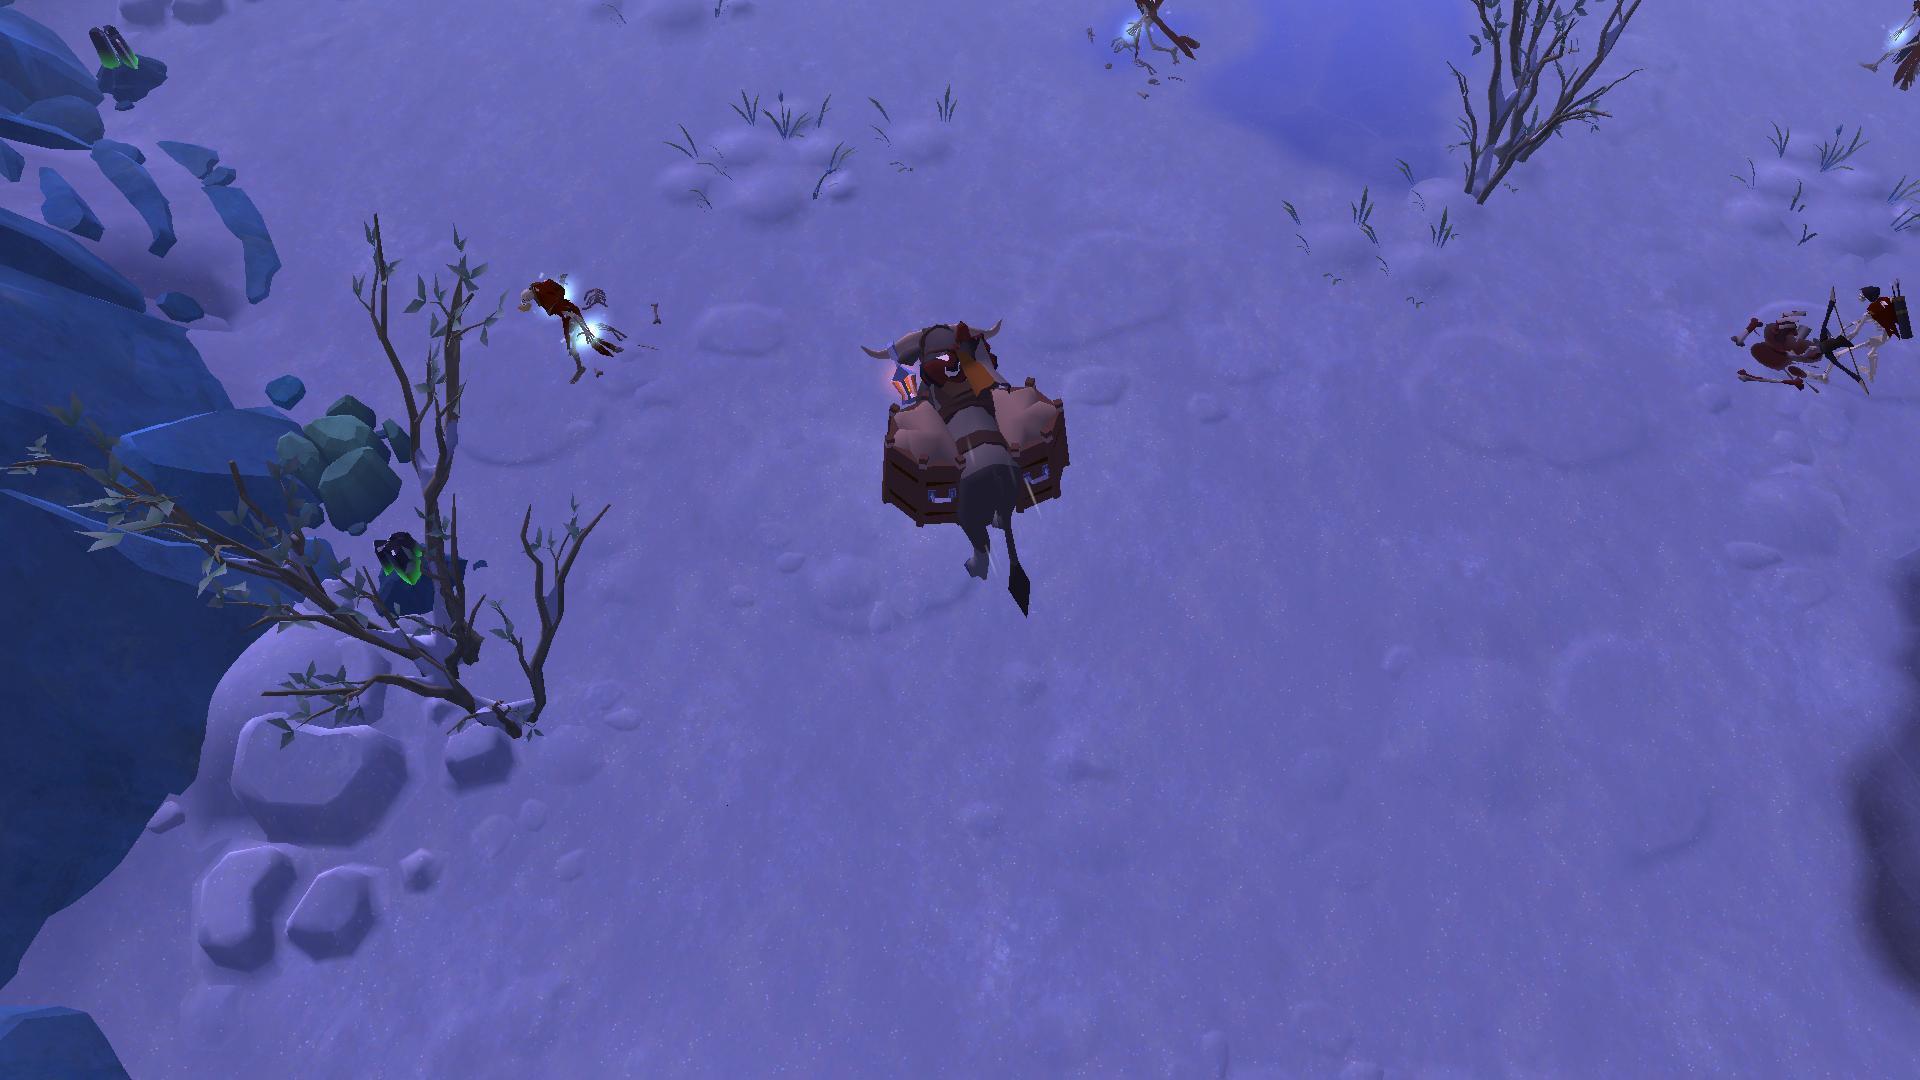enemy_factionUndead: (1811, 268, 1920, 384), (518, 266, 617, 382), (1127, 0, 1204, 75), (1876, 0, 1920, 98)
ore_t3: (371, 525, 434, 588), (80, 17, 138, 79)
rock_t3: (272, 390, 421, 530)
